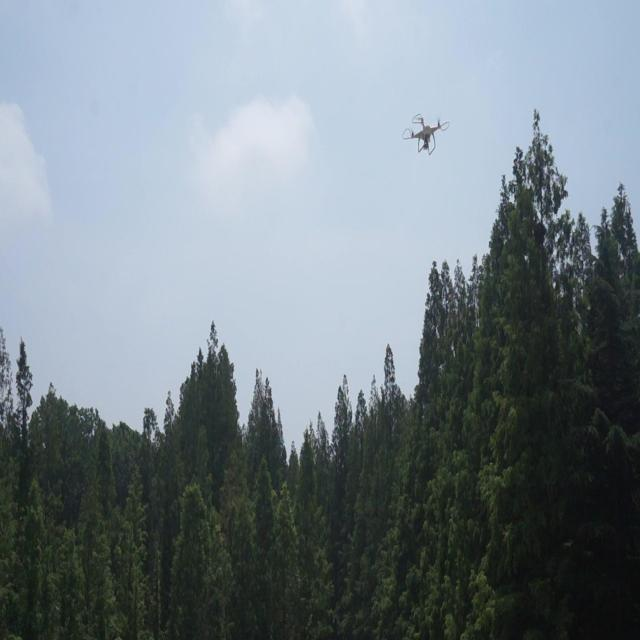drone: (400, 109, 450, 160)
